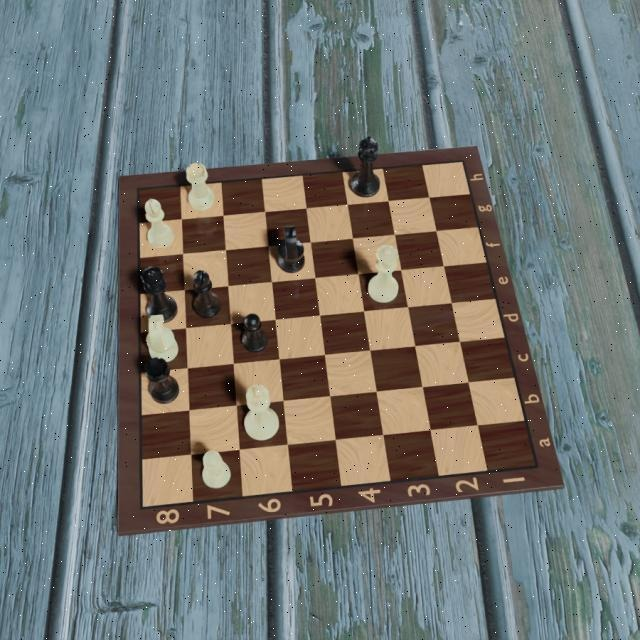black-bishop: (189, 267, 222, 321)
black-king: (350, 134, 383, 198)
black-knight: (276, 221, 308, 274)
black-pawn: (242, 311, 270, 353)
black-queen: (140, 266, 180, 324)
black-rook: (144, 355, 180, 405)
white-bishop: (144, 196, 174, 252)
white-king: (243, 381, 280, 442)
white-knight: (144, 312, 180, 364)
white-pawn: (202, 449, 232, 490)
white-queen: (368, 244, 402, 306)
white-rook: (184, 161, 216, 212)
